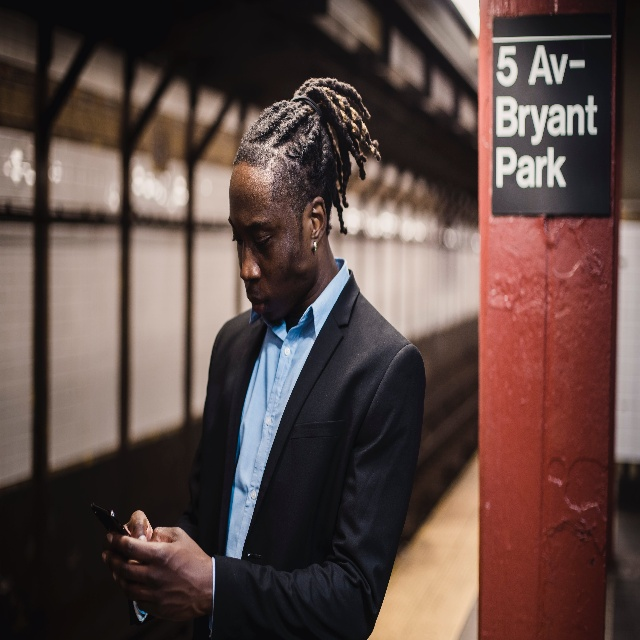Sin_guantes: (103, 521, 208, 619), (124, 511, 156, 544)
